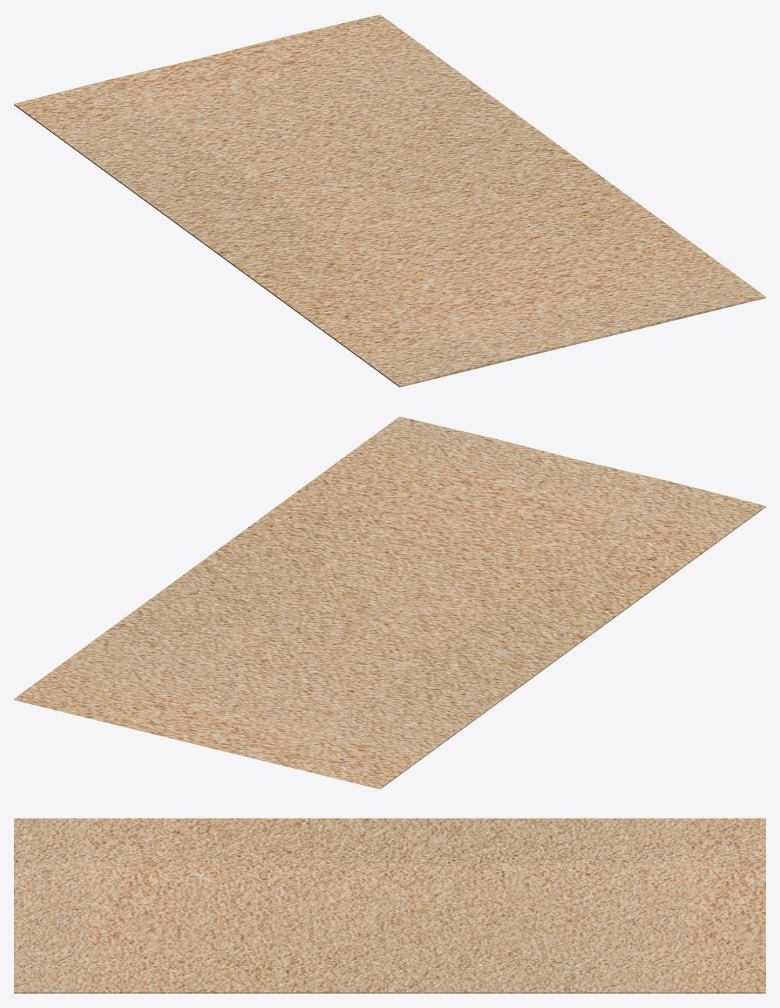
The model's file is kumfbx.fbx.
3 views of the same model, one above another, from view 1: azimuth 30°, elevation 25°; view 2: azimuth 150°, elevation 25°; view 3: azimuth 270°, elevation 25° (orthographic). The views are drawn at different scales.
Parts seen in each view (by area): view 1: Shape009_011.002; view 2: Shape009_011.002; view 3: Shape009_011.002.
Boxes of the visible parts, x1,y1,x2,y2 form: Shape009_011.002: (14,14,765,387); Shape009_011.002: (14,416,765,789); Shape009_011.002: (14,818,765,993).
Bounding box in the file's own units: 2742 × 17 × 5000.
1 material, 1 textured.
